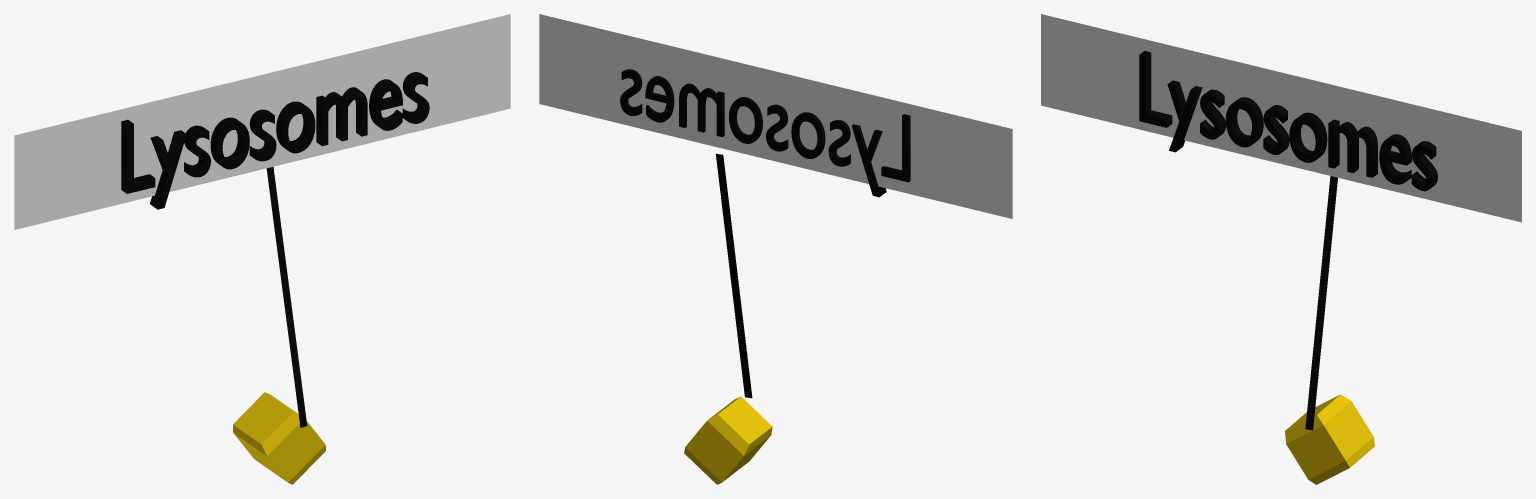
The model's file is lysosomes.gltf.
3 renders of one model, left to right at view 1: azimuth 30°, elevation 25°; view 2: azimuth 150°, elevation 25°; view 3: azimuth 330°, elevation 25°, orthographic. The views are drawn at different scales.
Parts seen in each view (by area): view 1: Plane.019, Text.019, Cube.008, Plane.026; view 2: Plane.019, Text.019, Cube.008, Plane.026; view 3: Plane.019, Text.019, Cube.008, Plane.026.
Boxes of the visible parts, x1,y1,x2,y2 form: Plane.019: (14,14,510,229); Text.019: (121,72,429,209); Cube.008: (233,392,325,484); Plane.026: (266,167,307,427); Plane.019: (539,14,1012,218); Text.019: (620,69,910,197); Cube.008: (684,396,772,484); Plane.026: (716,153,752,398); Plane.019: (1041,14,1521,222); Text.019: (1139,51,1437,191); Cube.008: (1285,394,1374,484); Plane.026: (1305,176,1337,430).
Size of the model in its own units: 1.33 by 1.08 by 0.1851.
